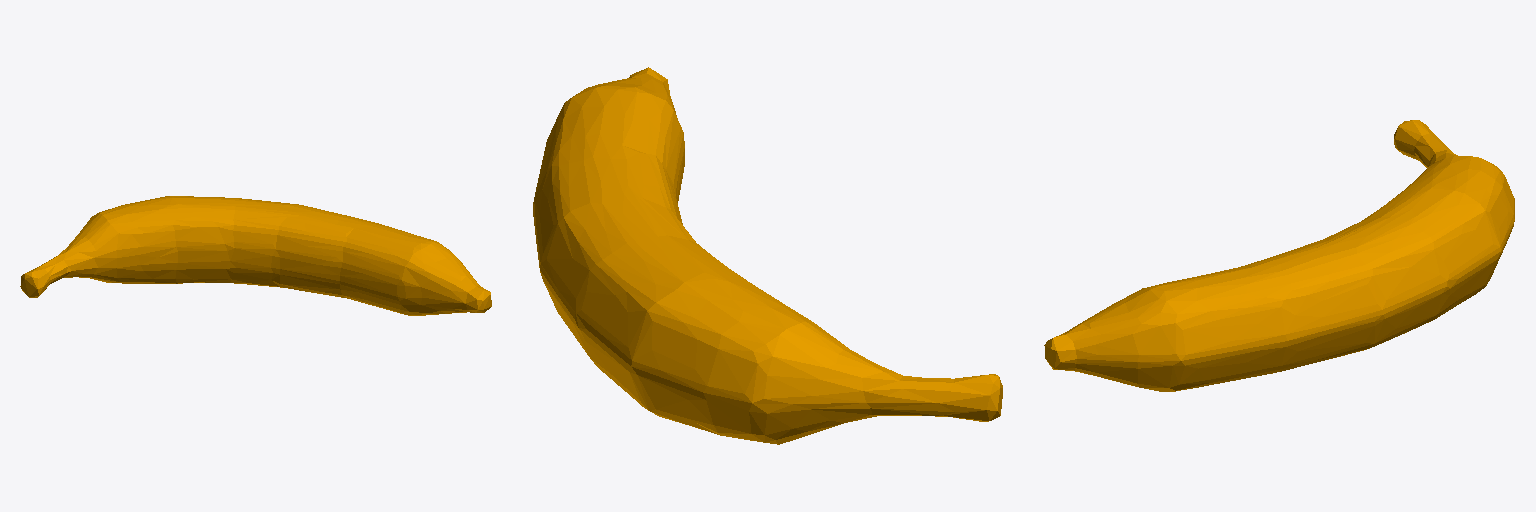
The robot description file, URDF, robot "banana_poisson_002":
<?xml version="1.0"?>
<robot name="banana_poisson_002">
  <link name="base_link">
    <contact>
      <lateral_friction value="1.0"/>
      <rolling_friction value="0.0"/>
      <contact_cfm value="0.0"/>
      <contact_erp value="1.0"/>
    </contact>
    <inertial>
      <mass value="0.16235997158"/>
      <inertia ixx="1" ixy="0" ixz="0" iyy="1" iyz="0" izz="1"/>
    </inertial>
    <visual>
      <geometry>
        <mesh filename="banana_poisson_002_visual.obj"/>
      </geometry>
    </visual>
    <collision>
      <geometry>
        <mesh filename="banana_poisson_002_collision.obj"/>
      </geometry>
    </collision>
  </link>
</robot>

--- Facts derived from the render (not from the file) ---
Views: 3 orthographic renders of the robot side by side, from view 1: azimuth 30°, elevation 25°; view 2: azimuth 150°, elevation 25°; view 3: azimuth 270°, elevation 25°.
Model banana_poisson_002 with 1 links and 0 joints (none), rooted at base_link, posed every joint at zero.
Visible links, largest first — view 1: base_link; view 2: base_link; view 3: base_link.
Boxes of the visible links, bbox=[...] form: base_link: bbox=[20, 196, 491, 315]; base_link: bbox=[533, 67, 1002, 444]; base_link: bbox=[1044, 120, 1514, 391].
Bounding box of the posed robot: 0.0807 × 0.07 × 0.0172 m (x, y, z).
Meshes: 1 distinct files referenced, 1 mesh visuals loaded (1 OBJ).